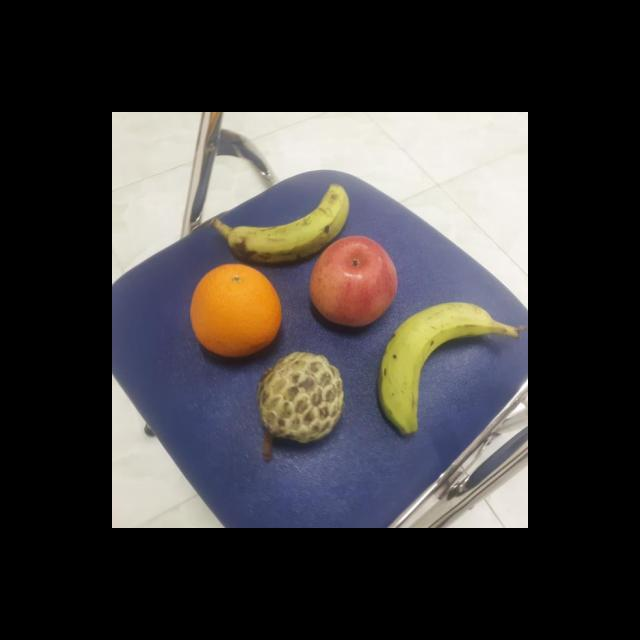Sakya fruit: (254, 346, 345, 446)
apple: (306, 236, 399, 329)
banana: (376, 298, 501, 438), (224, 175, 350, 264)
orange: (187, 260, 283, 359)
